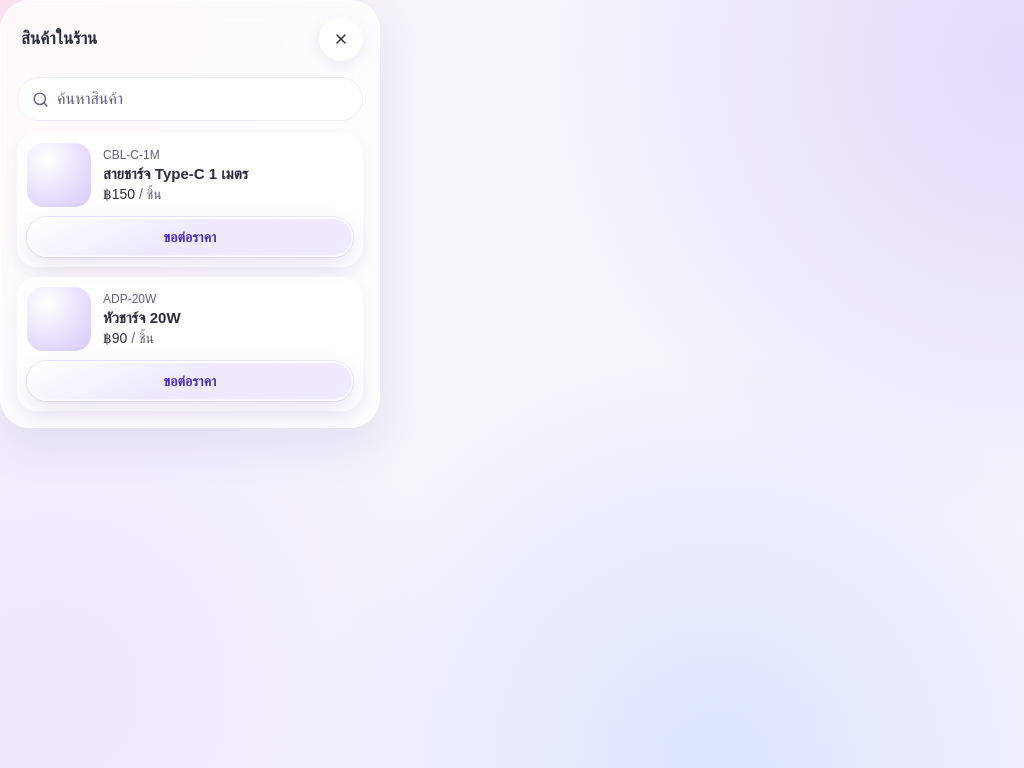
Test: ProductDrawer (คอม) › ค้นหาสินค้าจากชื่อหรือ SKU
The image size is (1024, 768).
Type "adp" into the search field labelled "ค้นหาสินค้า" at (202,99), box [57, 79, 348, 119]
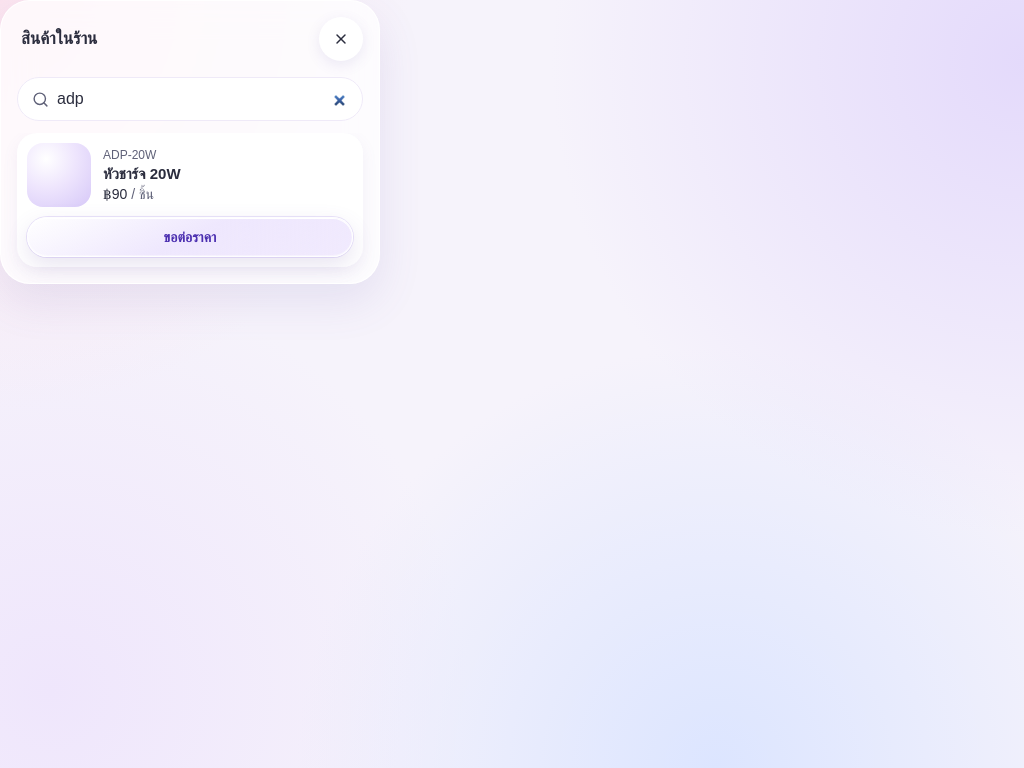
Expected: the text "หัวชาร์จ 20W" is shown, [103, 162, 181, 184]
Now the text "สายชาร์จ Type-C 1 เมตร" is gone
